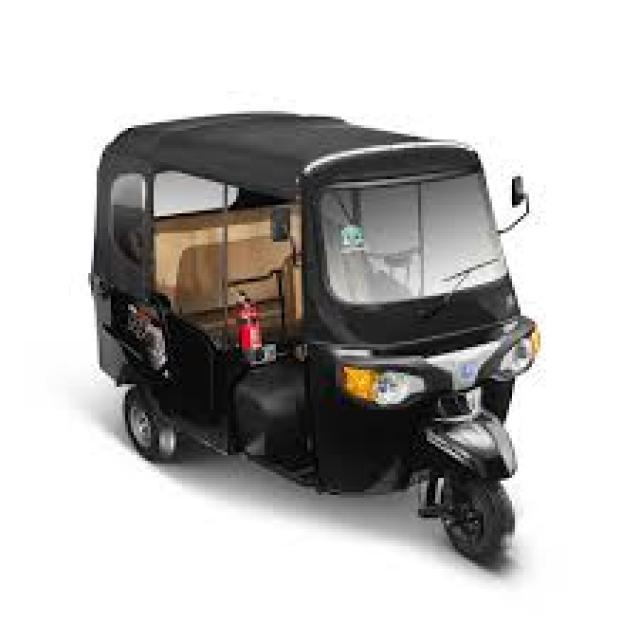tuktuk: (34, 64, 624, 592)
